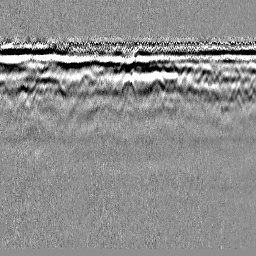cavity: (120, 72, 137, 100)
